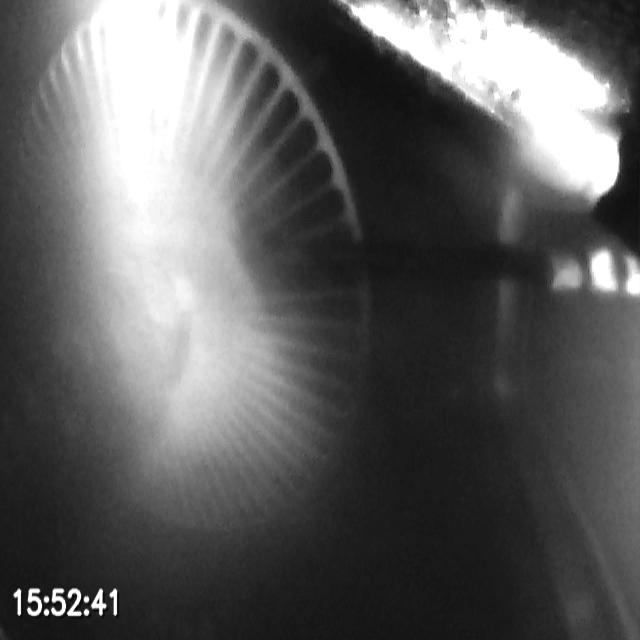white-dots: (548, 245, 640, 300)
